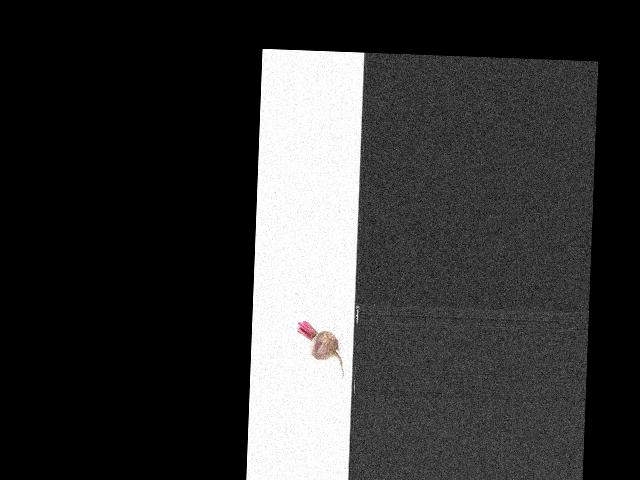beet: (295, 321, 345, 378)
